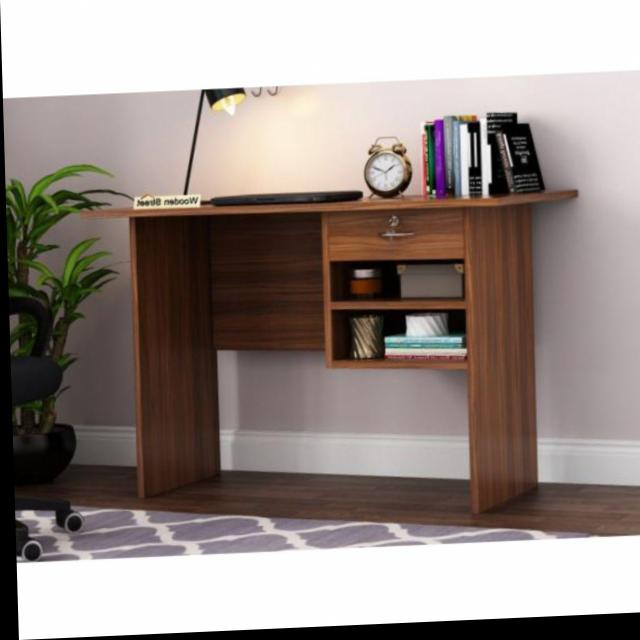Table: (73, 177, 596, 528)
